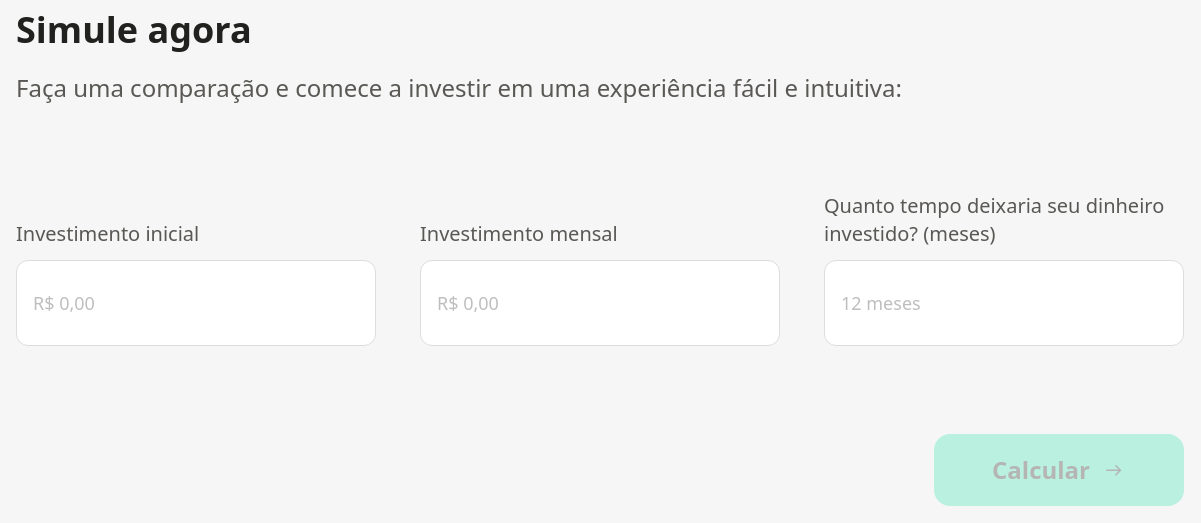
SimulationForm Component › enables submit button when all fields are valid
This screenshot has width=1201, height=523.
Type "1000" into the field labelled "Investimento inicial" at [196, 303], box 16,260 -> 376,346
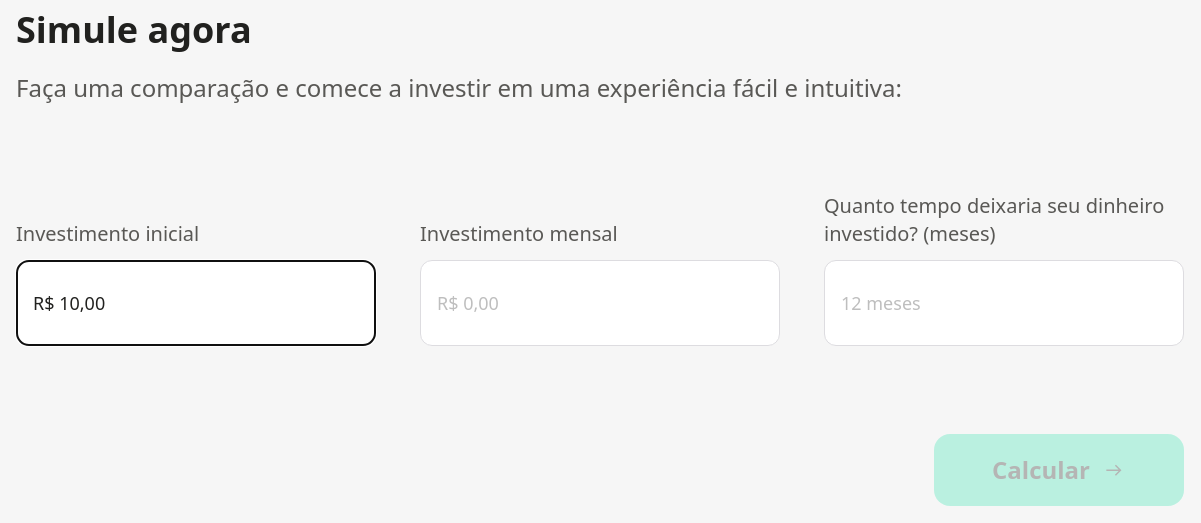
Type "500" into the field labelled "Investimento mensal" at [600, 303], box 420,260 -> 780,346
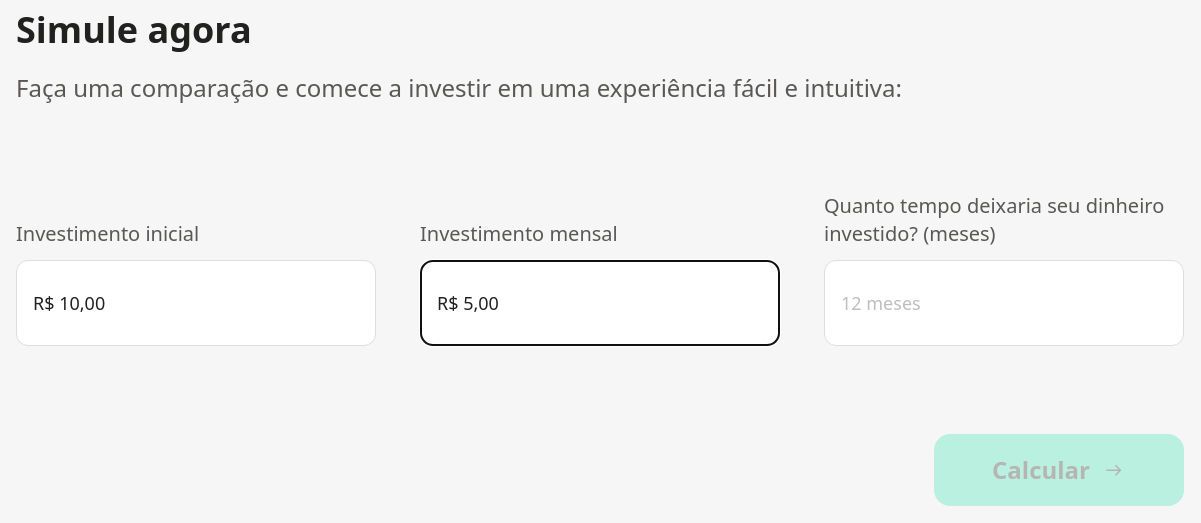
Type "12" into the field labelled "Quanto tempo deixaria seu dinheiro investido? (meses)" at [1004, 303], box 824,260 -> 1184,346
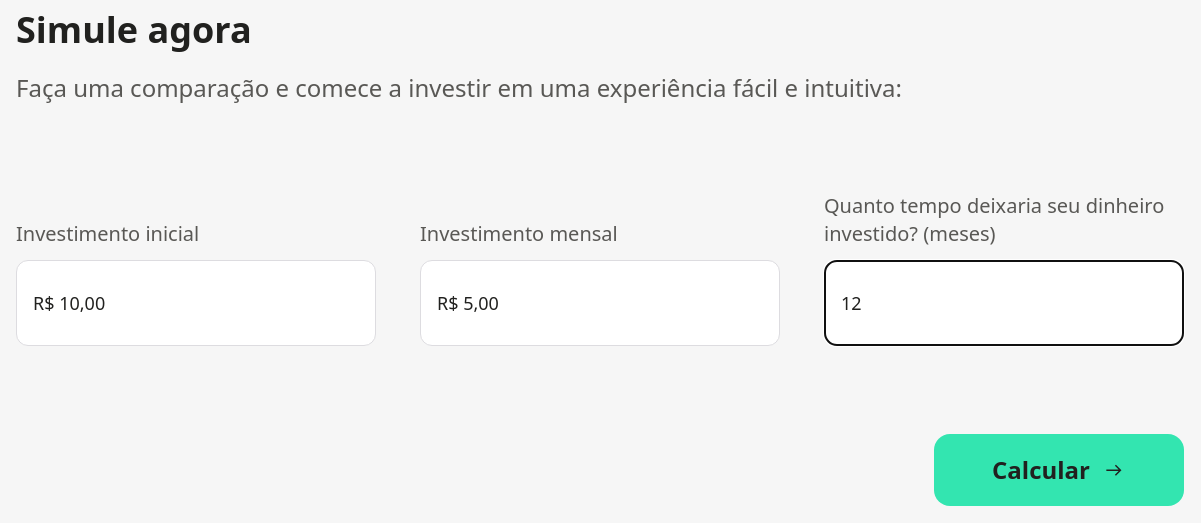
Result: the button "Calcular" is enabled at 934,434 -> 1184,506
